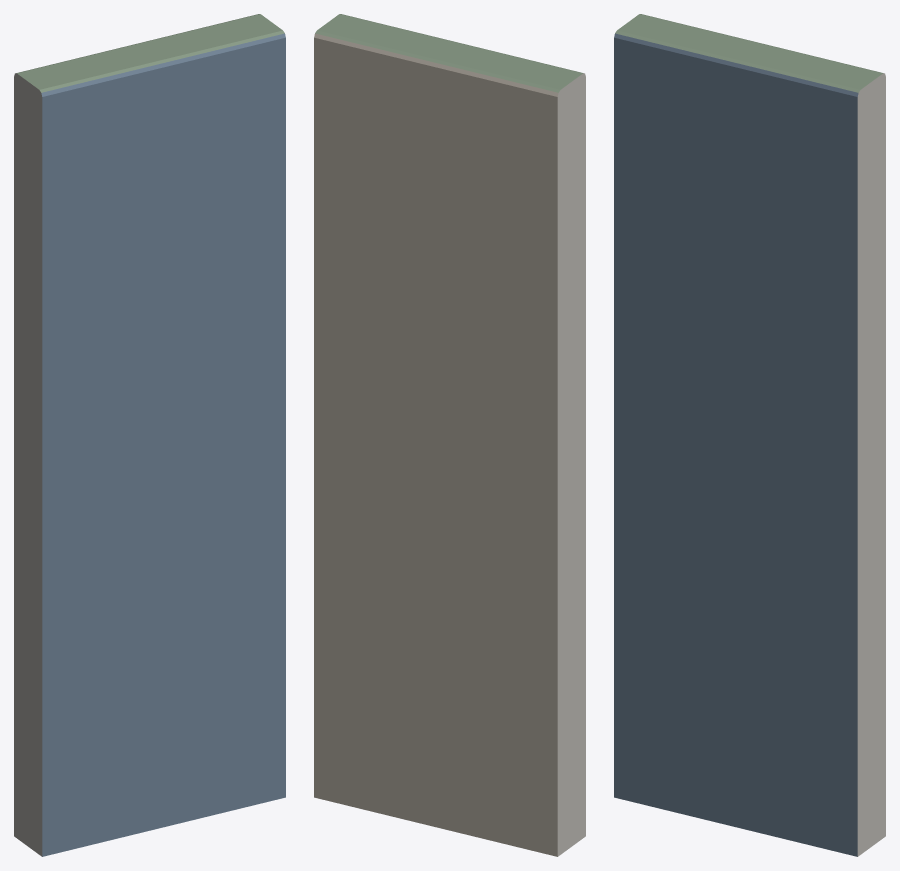
The model's file is SM_Kit_Wall.glb.
3 views of the same model, side by side, from view 1: azimuth 30°, elevation 25°; view 2: azimuth 150°, elevation 25°; view 3: azimuth 330°, elevation 25° (orthographic).
Visible parts, largest first — view 1: SM_Kit_Wall; view 2: SM_Kit_Wall; view 3: SM_Kit_Wall.
Part boxes in pixels (x1=…): SM_Kit_Wall: x1=14, y1=14, x2=285, y2=856; SM_Kit_Wall: x1=314, y1=14, x2=585, y2=856; SM_Kit_Wall: x1=614, y1=14, x2=885, y2=856.
Size of the model in its own units: 1 by 3 by 0.2.
